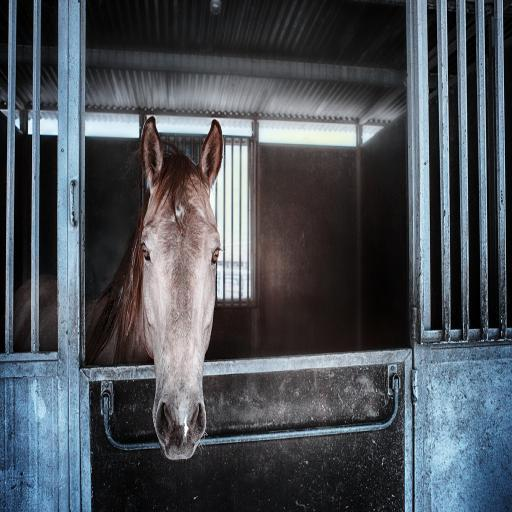horse: (0, 114, 223, 458)
